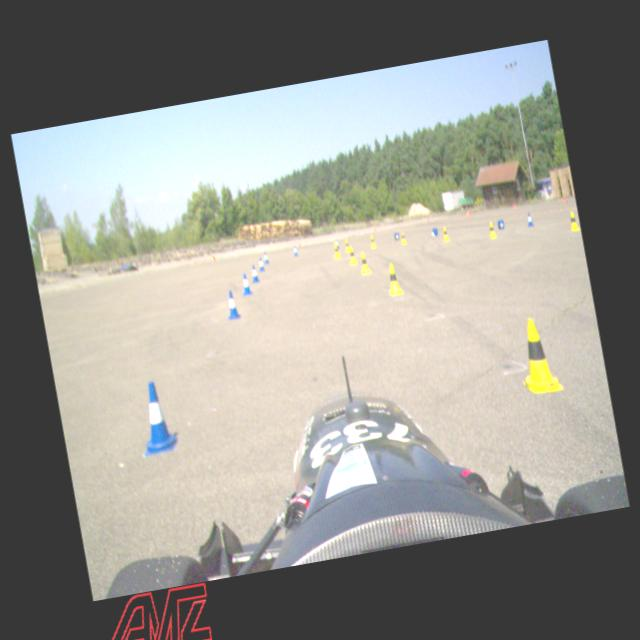blue_cone: (132, 379, 178, 453), (223, 289, 240, 318), (239, 271, 251, 294), (250, 262, 260, 282), (256, 256, 266, 272), (525, 210, 534, 227), (262, 251, 270, 264), (291, 244, 299, 257), (334, 238, 339, 250)
orange_cone: (464, 208, 471, 216), (210, 250, 215, 260), (512, 203, 516, 210), (374, 226, 377, 232), (299, 242, 303, 246), (426, 217, 430, 221)
yellow_cone: (511, 313, 562, 395), (384, 260, 404, 296), (357, 250, 372, 276), (567, 208, 580, 230), (346, 244, 357, 266), (487, 220, 498, 240), (332, 241, 341, 259), (441, 224, 450, 240), (399, 230, 407, 246), (368, 234, 376, 248), (342, 239, 350, 252)
